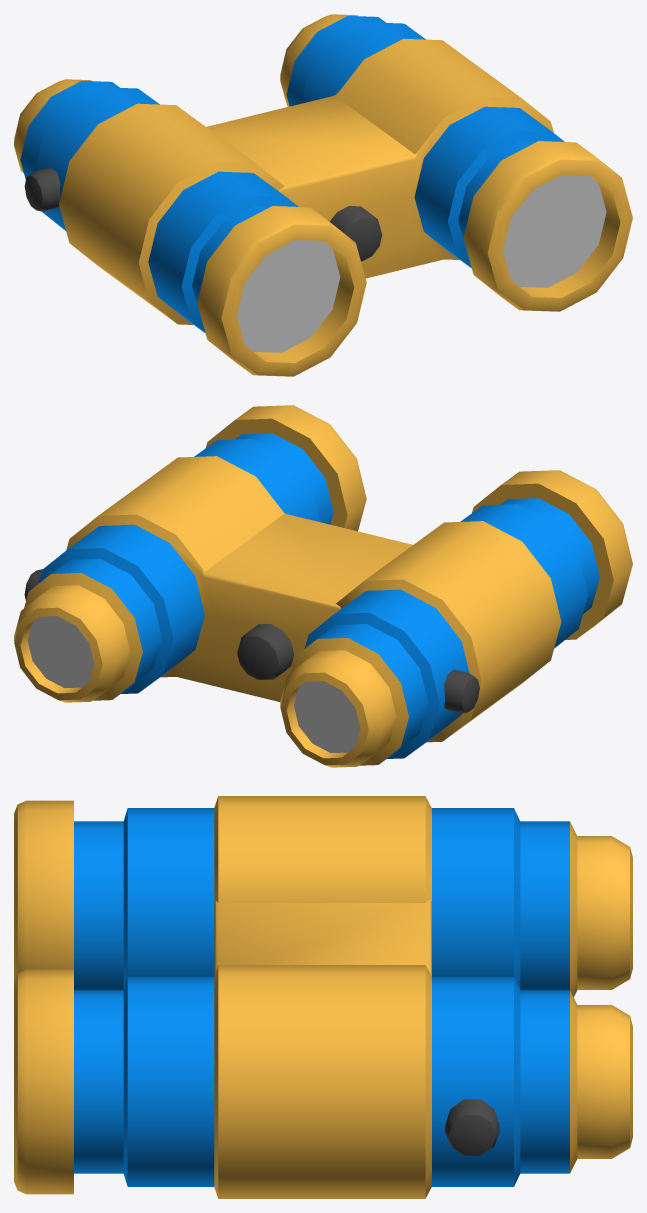
The model's file is Binoculars_3.fbx.
3 renders of one model, top to bottom at view 1: azimuth 30°, elevation 25°; view 2: azimuth 150°, elevation 25°; view 3: azimuth 270°, elevation 25°, orthographic. The views are drawn at different scales.
Visible parts, largest first — view 1: Binoculars_3; view 2: Binoculars_3; view 3: Binoculars_3.
Boxes of the visible parts, x1,y1,x2,y2 form: Binoculars_3: [14, 14, 632, 376]; Binoculars_3: [14, 405, 632, 767]; Binoculars_3: [14, 796, 632, 1198].
Size of the model in its own units: 0.2659 by 0.0942 by 0.2482.
